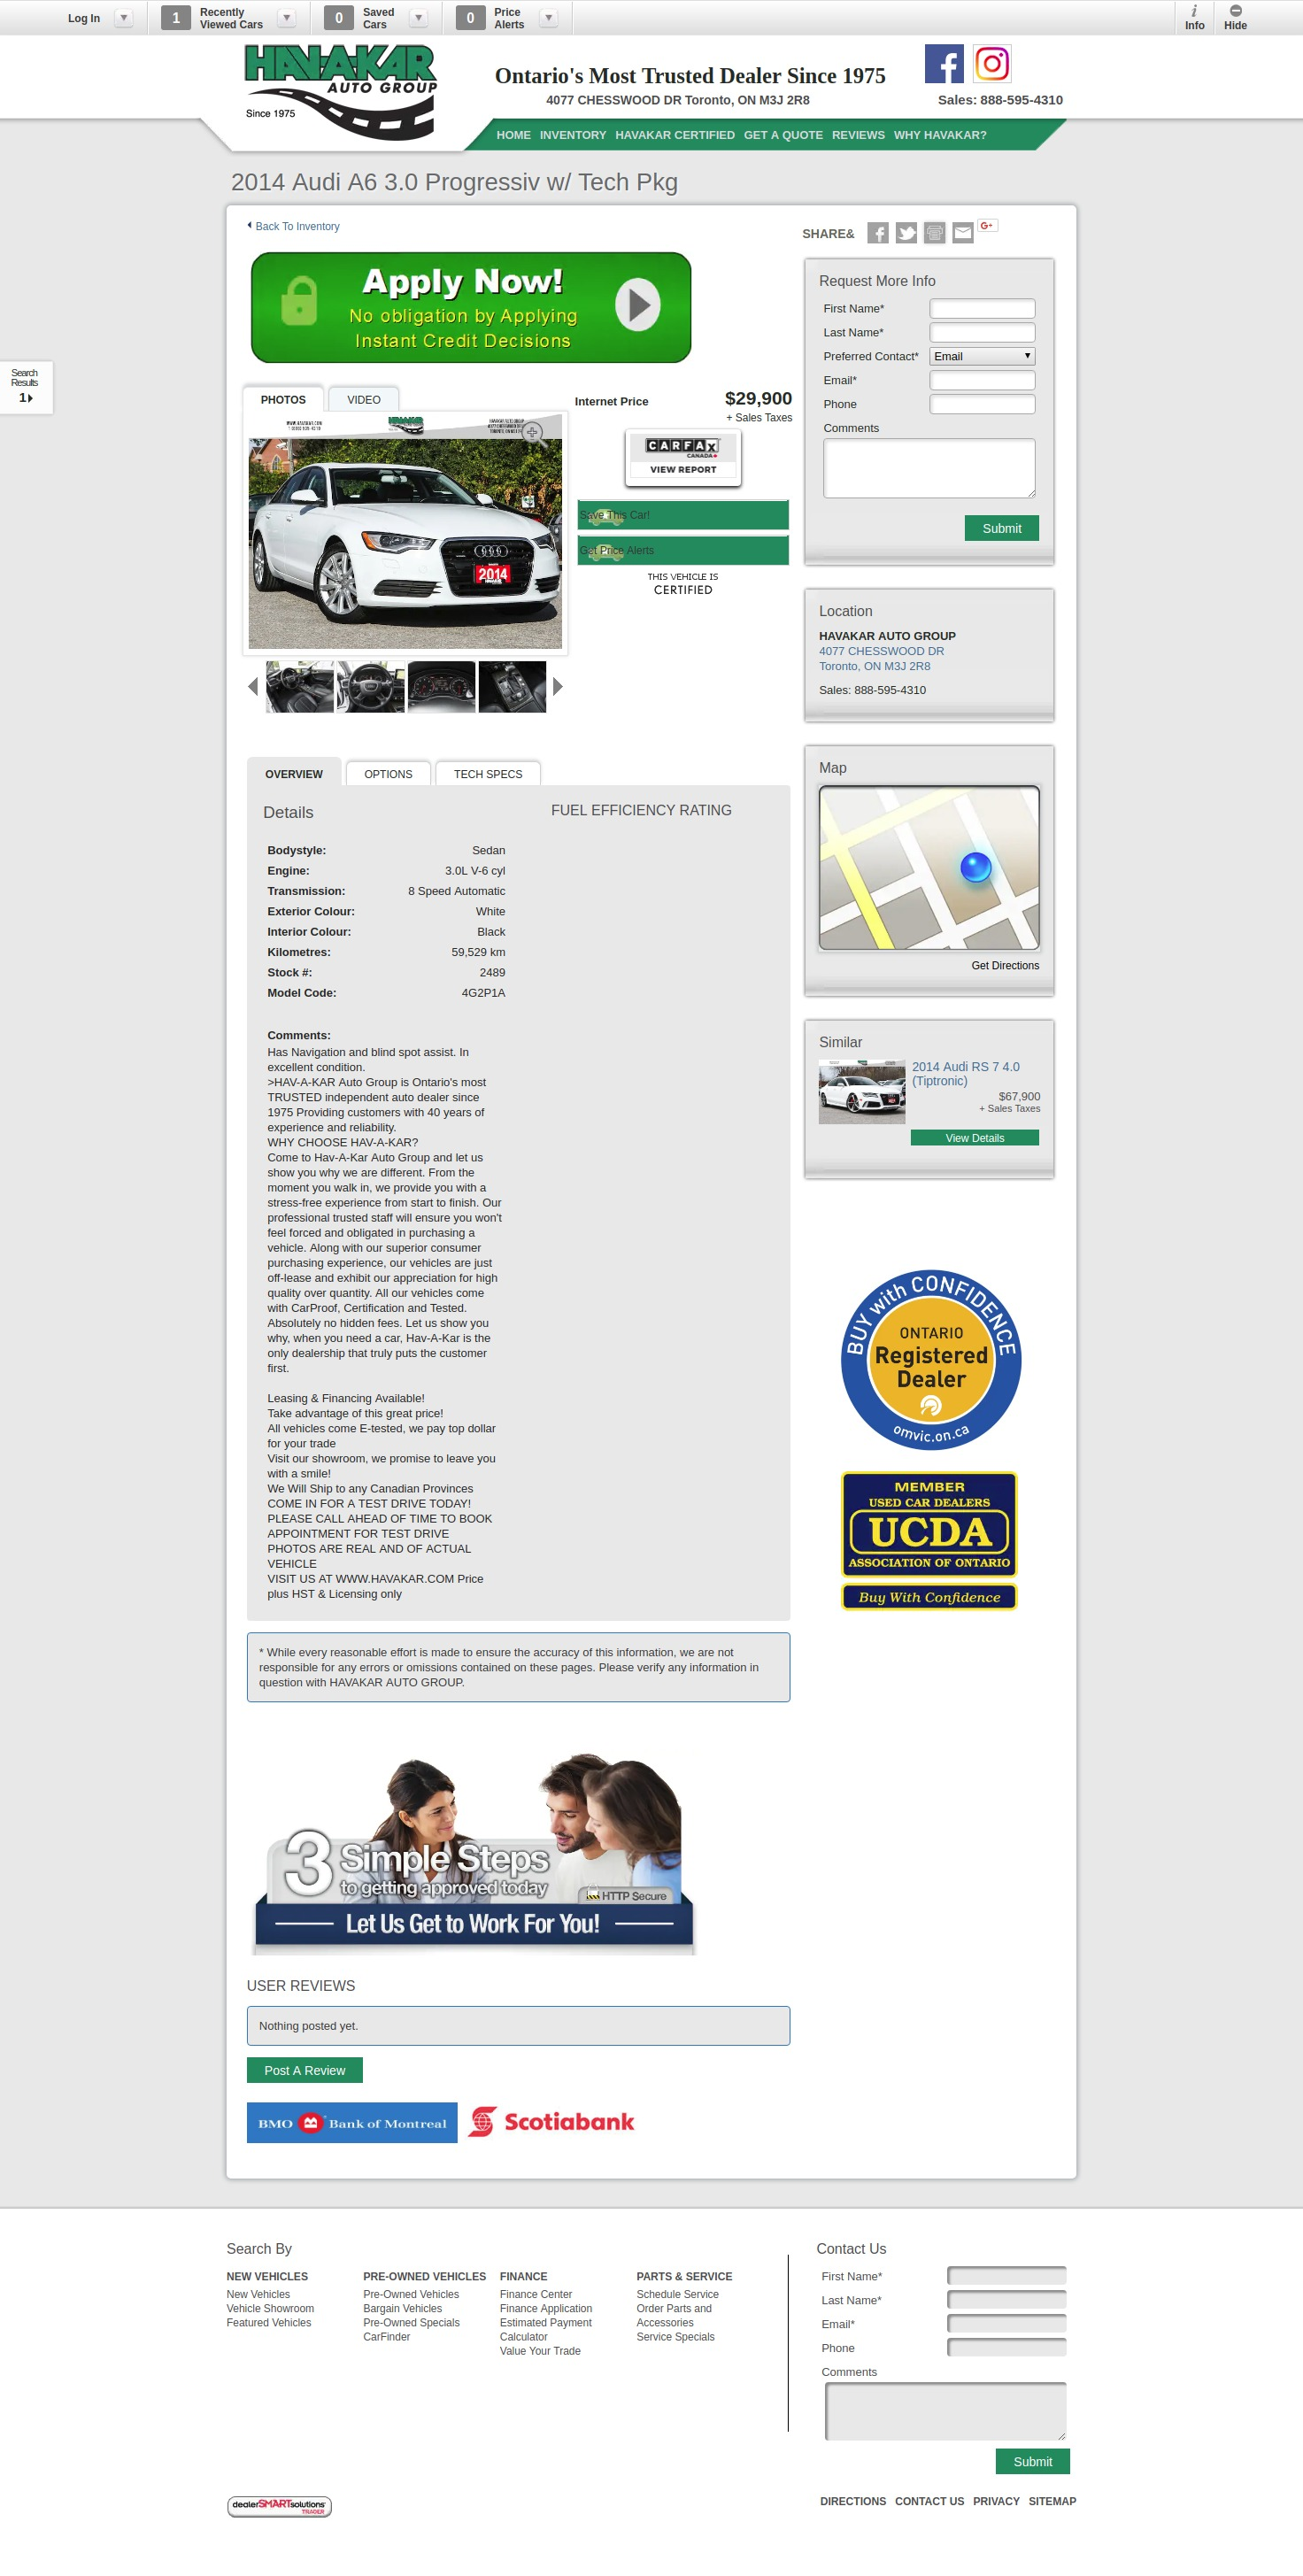car: (553, 676, 563, 696)
